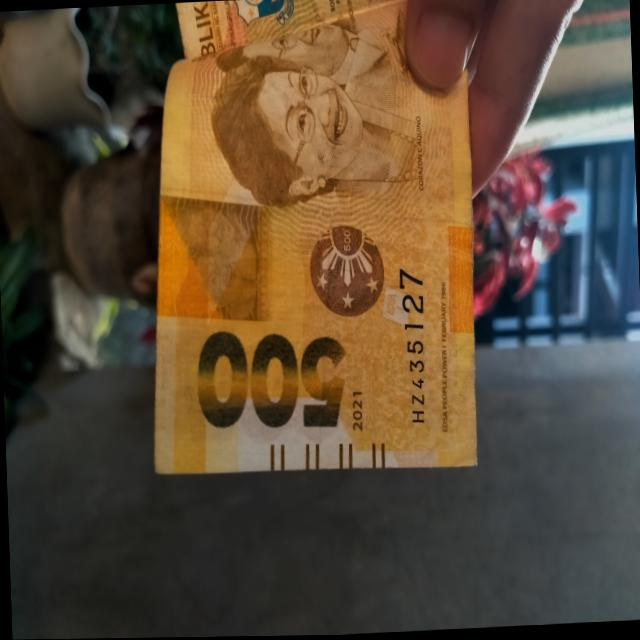concealed_value: (150, 189, 268, 321)
optically_variable_device: (290, 194, 397, 332)
serial_number: (391, 267, 437, 432)
value: (184, 318, 353, 446)
